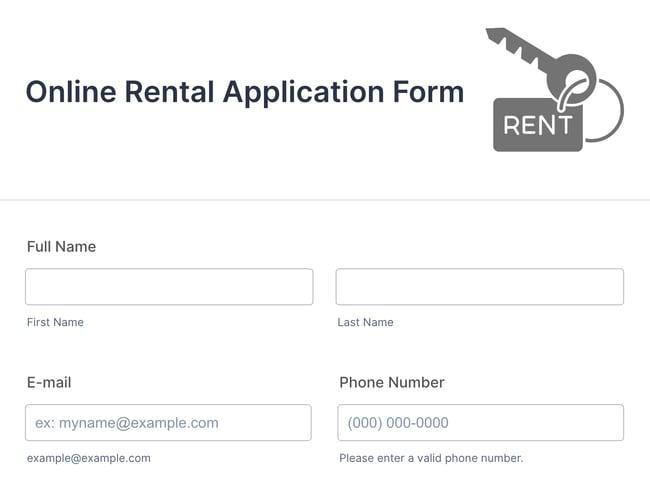input: (336, 403, 627, 444), (25, 267, 316, 307), (24, 403, 315, 443), (338, 269, 625, 307)
label: (25, 78, 467, 111), (336, 374, 448, 394), (28, 239, 98, 256), (26, 373, 74, 391)
